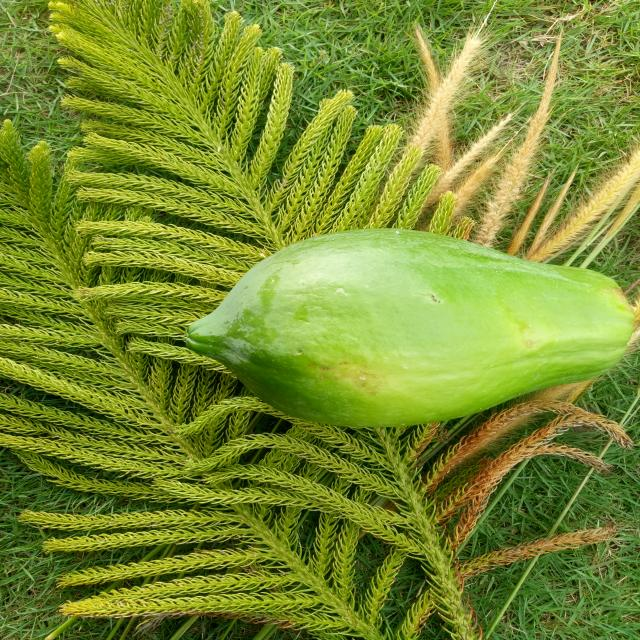Pepaya unrippen: (177, 232, 640, 430)
